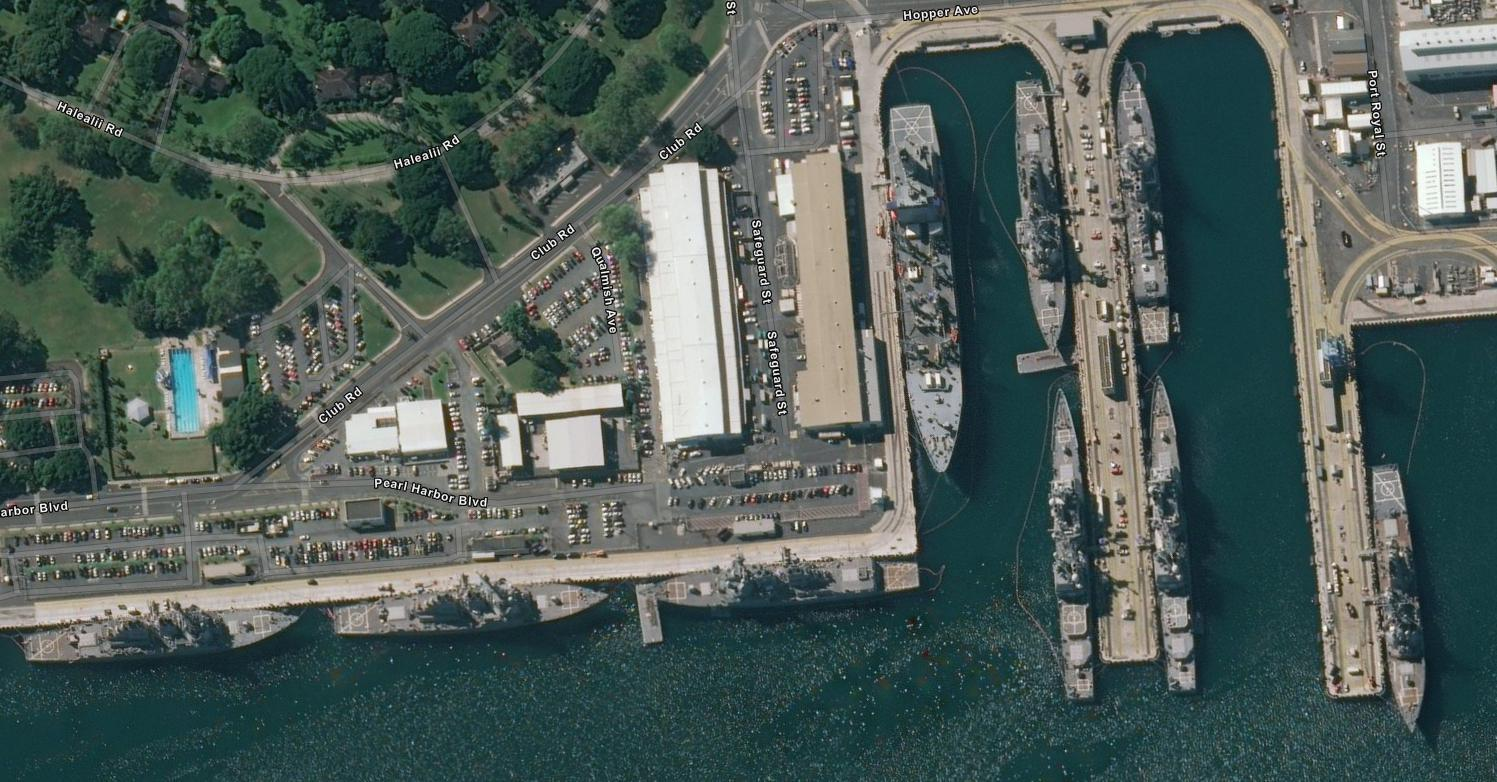cruiser: (1146, 367, 1212, 701), (1041, 379, 1103, 715)
fregate: (1108, 51, 1190, 350), (1358, 450, 1439, 743), (635, 549, 937, 619), (1005, 70, 1077, 361), (15, 602, 301, 663), (324, 582, 615, 641)
tender: (883, 90, 976, 487)
